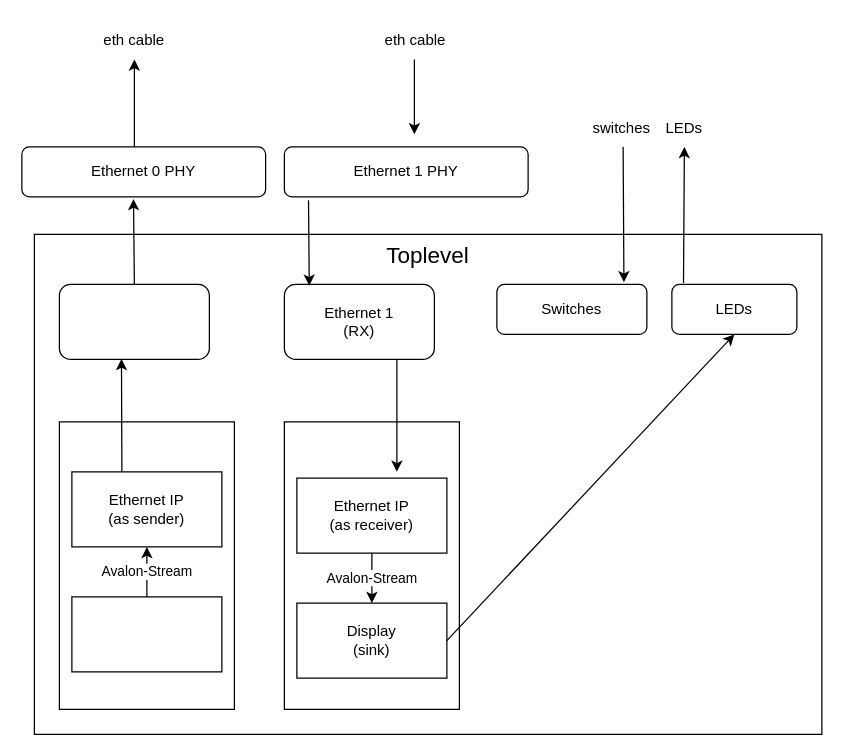
This 844x756 diagram has some shape labels left out. Here are the shapes that lost their labels. From the top down, the box of each, then its label:
(58, 283, 209, 359): Ethernet 0 (TX)
(58, 421, 234, 709): Master Source
(283, 421, 459, 709): Master Sink
(71, 596, 222, 672): Memory (source)
